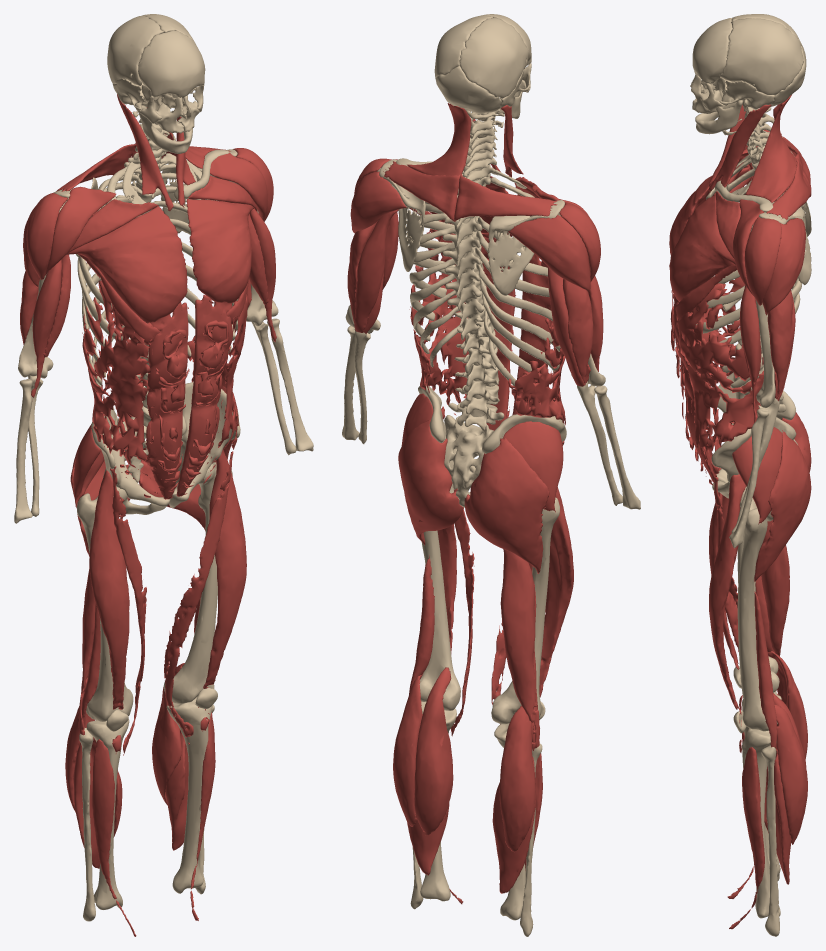
The model's file is muscles.35ea6621.glb.
3 views of the same model, side by side, from view 1: azimuth 30°, elevation 25°; view 2: azimuth 150°, elevation 25°; view 3: azimuth 270°, elevation 25° (orthographic).
Parts seen in each view (by area): view 1: Right external oblique, Sternocostal right pectoralis major, Sternocostal left pectoralis major, Right rectus femoris, Left rectus femoris, Right rectus abdominis, Left rectus abdominis, Left external oblique, Left femur, Left tibia, Frontal bone, Left sartorius (+43 smaller); view 2: Right gluteus maximus, Left gluteus maximus, Long head of right biceps femoris, Medial head of left gastrocnemius, Lateral head of right gastrocnemius, Right parietal bone, Left external oblique, Spinal right deltoid, Right rectus femoris, Left femur, Right external oblique, Right scapula (+43 smaller); view 3: Left external oblique, Left parietal bone, Left femur, Sternocostal left pectoralis major, Left gluteus maximus, Left rectus femoris, Lateral head of left gastrocnemius, Descending left trapezius, Acromial left deltoid, Spinal left deltoid, Left gluteus medius, Left tibialis anterior (+38 smaller).
Boxes of the visible parts, x1,y1,x2,y2 form: Right external oblique: (82, 280, 188, 498); Sternocostal right pectoralis major: (66, 206, 187, 323); Sternocostal left pectoralis major: (186, 199, 253, 303); Right rectus femoris: (89, 470, 129, 753); Left rectus femoris: (198, 449, 246, 731); Right rectus abdominis: (145, 302, 188, 499); Left rectus abdominis: (176, 295, 232, 496); Left external oblique: (182, 291, 248, 494); Left femur: (163, 462, 232, 703); Left tibia: (166, 696, 212, 893); Frontal bone: (138, 30, 205, 99); Left sartorius: (164, 437, 237, 744); Right gluteus maximus: (464, 438, 549, 573); Left gluteus maximus: (398, 419, 463, 545); Long head of right biceps femoris: (500, 549, 539, 750); Medial head of left gastrocnemius: (414, 667, 453, 835); Lateral head of right gastrocnemius: (499, 706, 535, 851); Right parietal bone: (459, 17, 528, 98); Left external oblique: (409, 229, 515, 424); Spinal right deltoid: (508, 214, 590, 294); Right rectus femoris: (539, 487, 573, 697); Left femur: (419, 530, 460, 710); Right external oblique: (508, 318, 565, 425); Right scapula: (487, 200, 564, 295); Left external oblique: (671, 283, 763, 485); Left parietal bone: (720, 18, 803, 94); Left femur: (737, 486, 777, 731); Sternocostal left pectoralis major: (669, 194, 735, 301); Left gluteus maximus: (754, 430, 811, 581); Left rectus femoris: (709, 474, 745, 752); Lateral head of left gastrocnemius: (774, 704, 807, 844); Descending left trapezius: (745, 95, 796, 202); Acromial left deltoid: (744, 217, 781, 305); Spinal left deltoid: (762, 218, 805, 315); Left gluteus medius: (732, 427, 782, 524); Left tibialis anterior: (729, 747, 764, 929).
Bounding box in the file's own units: 1.54 × 4.42 × 0.6358.
